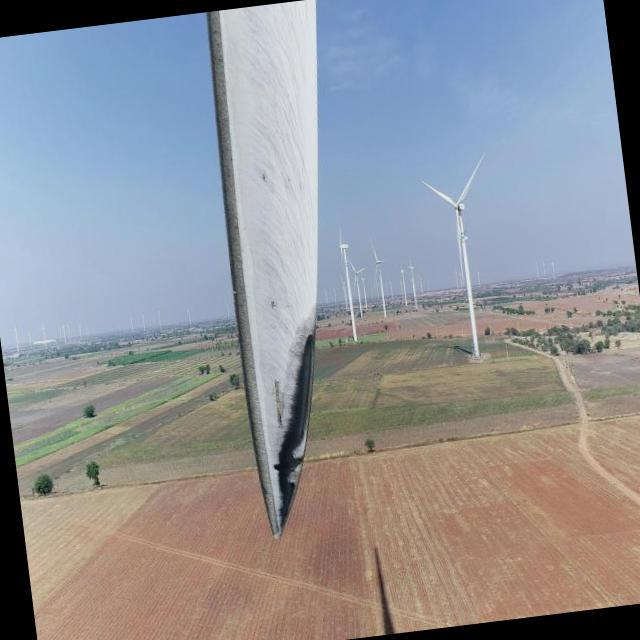Dirt: (210, 0, 318, 531)
Oil LEAKAGE: (276, 334, 318, 536)
Pin Hole: (257, 168, 272, 190), (267, 296, 279, 314), (270, 459, 284, 474)
